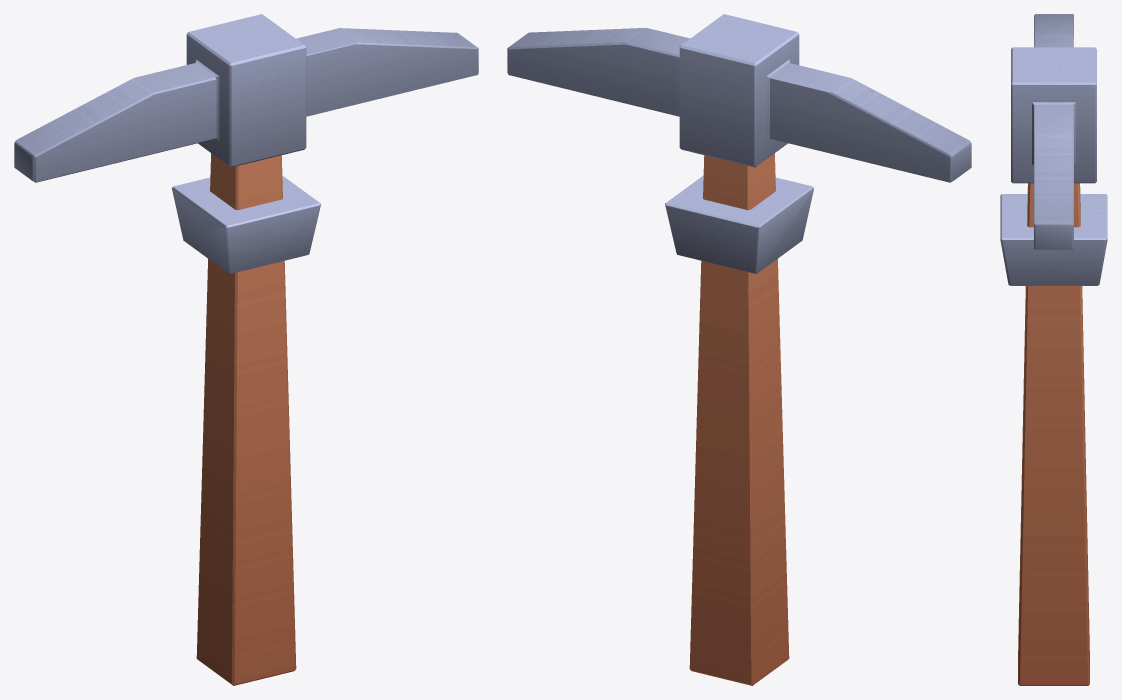
File: kenney-survival__tool-pickaxe.glb
3 renders of one model, left to right at view 1: azimuth 30°, elevation 25°; view 2: azimuth 150°, elevation 25°; view 3: azimuth 270°, elevation 25°, orthographic. The views are drawn at different scales.
Parts seen in each view (by area): view 1: tool-pickaxe; view 2: tool-pickaxe; view 3: tool-pickaxe.
Part boxes in pixels (x1,y1,x2,y2): tool-pickaxe: (14,14,478,685); tool-pickaxe: (507,14,971,685); tool-pickaxe: (1000,14,1107,685).
Bounding box in the file's own units: 0.1786 × 0.24 × 0.0385.
1 material, 1 textured.
